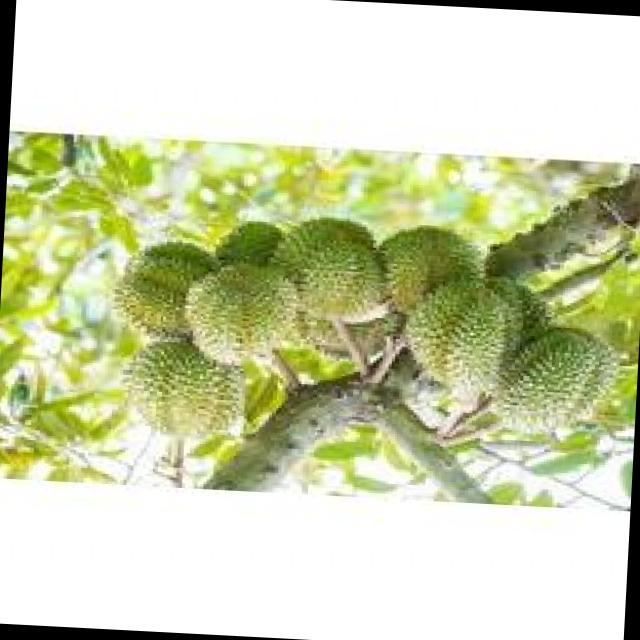fruit: (104, 312, 262, 459), (255, 197, 400, 346)
